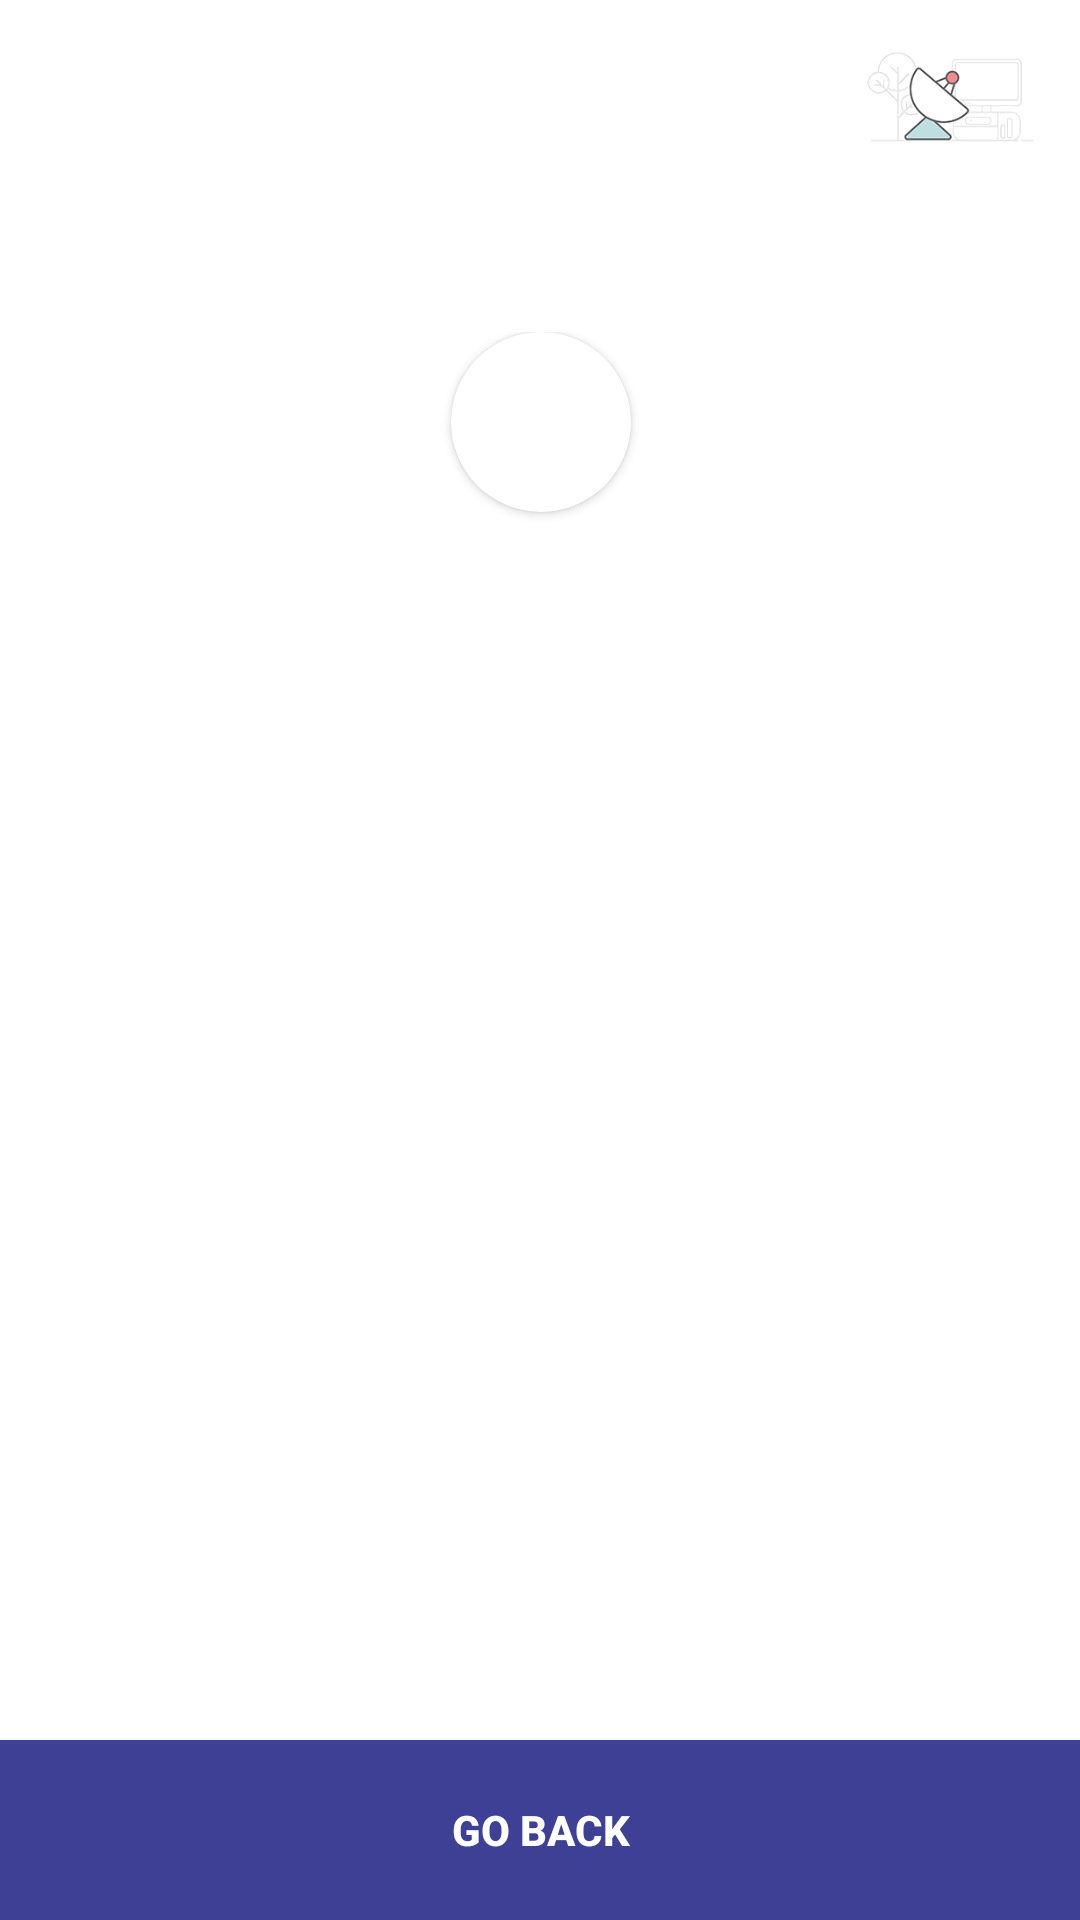

Icon bounding boxes for this 1080×1920 phone screenshot, format (x1, y1, x2, y2):
il dth: (868, 53, 1023, 141)
